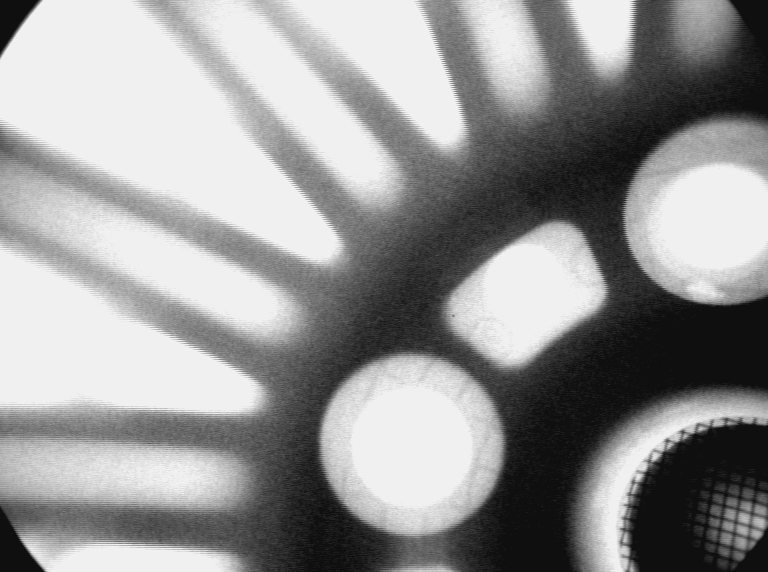defect: (684, 276, 729, 306)
